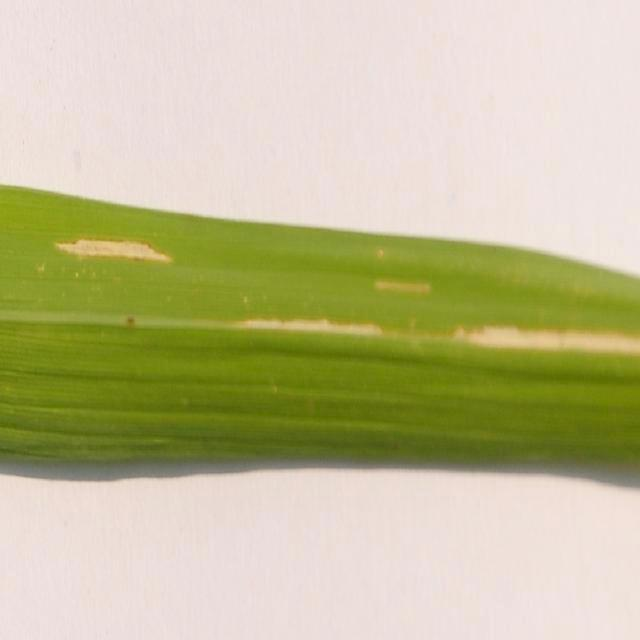bacterial_leaf_blight: (455, 327, 640, 355), (56, 239, 171, 262), (233, 319, 382, 335), (375, 280, 430, 294)
